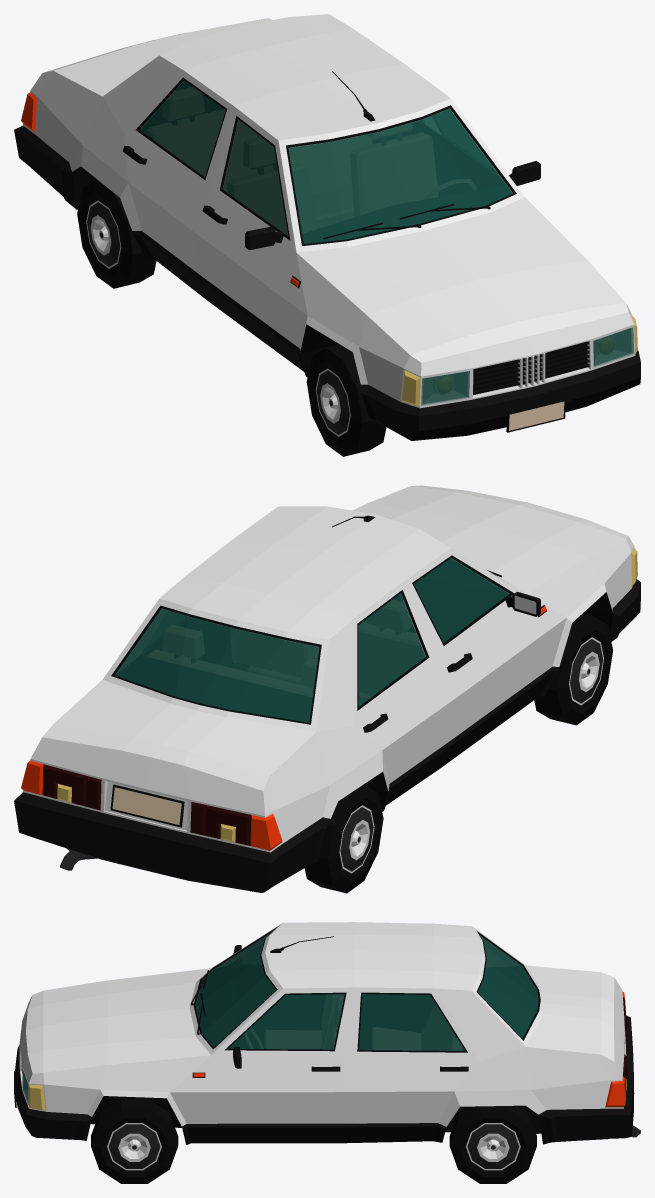
Rendered from Sedan_07.FBX.
The picture shows the model from 3 angles, top to bottom: view 1: azimuth 30°, elevation 25°; view 2: azimuth 150°, elevation 25°; view 3: azimuth 270°, elevation 25°; orthographic projection. The views are drawn at different scales.
Parts seen in each view (by area): view 1: Sedan_07, interior, wheel_f_r, wheel_b_r, grill, lights, licensePlate_f, indicatorLights_r, mirror_r; view 2: Sedan_07, interior, wheel_f_r, wheel_b_r, tailLights, licensePlate_b, indicatorLights_r, mirror_r, indicatorLights_l; view 3: Sedan_07, interior, wheel_f_l, wheel_b_l, indicatorLights_l.
Boxes of the visible parts, box(x1,y1,x2,y2) form: Sedan_07: box(14, 14, 640, 440); interior: box(140, 81, 512, 243); wheel_f_r: box(306, 344, 386, 456); wheel_b_r: box(77, 179, 156, 288); grill: box(473, 341, 589, 394); lights: box(290, 275, 635, 406); licensePlate_f: box(506, 399, 565, 432); indicatorLights_r: box(21, 92, 420, 406); mirror_r: box(245, 226, 284, 250); Sedan_07: box(14, 485, 640, 892); interior: box(116, 558, 508, 722); wheel_f_r: box(534, 613, 612, 725); wheel_b_r: box(304, 784, 383, 893); tailLights: box(42, 764, 251, 845); licensePlate_b: box(110, 784, 184, 827); indicatorLights_r: box(250, 547, 637, 850); mirror_r: box(505, 592, 540, 616); indicatorLights_l: box(21, 760, 43, 795); Sedan_07: box(14, 922, 634, 1144); interior: box(196, 936, 537, 1050); wheel_f_l: box(91, 1098, 178, 1183); wheel_b_l: box(449, 1105, 536, 1183); indicatorLights_l: box(29, 1073, 626, 1110).
Size of the model in its own units: 26.06 by 21.66 by 61.62.
